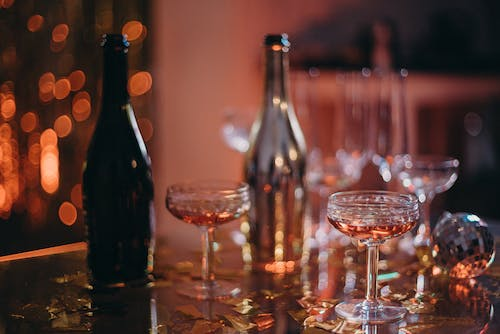alcohol: (80, 32, 157, 288), (241, 32, 309, 275), (325, 189, 421, 326), (164, 179, 253, 301)
